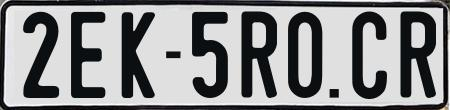0: (285, 12, 322, 101)
2: (21, 12, 59, 99)
5: (191, 11, 230, 102)
C: (351, 8, 389, 96)
E: (71, 11, 111, 99)
K: (120, 9, 156, 95)
R: (240, 8, 279, 97), (400, 9, 435, 97)
